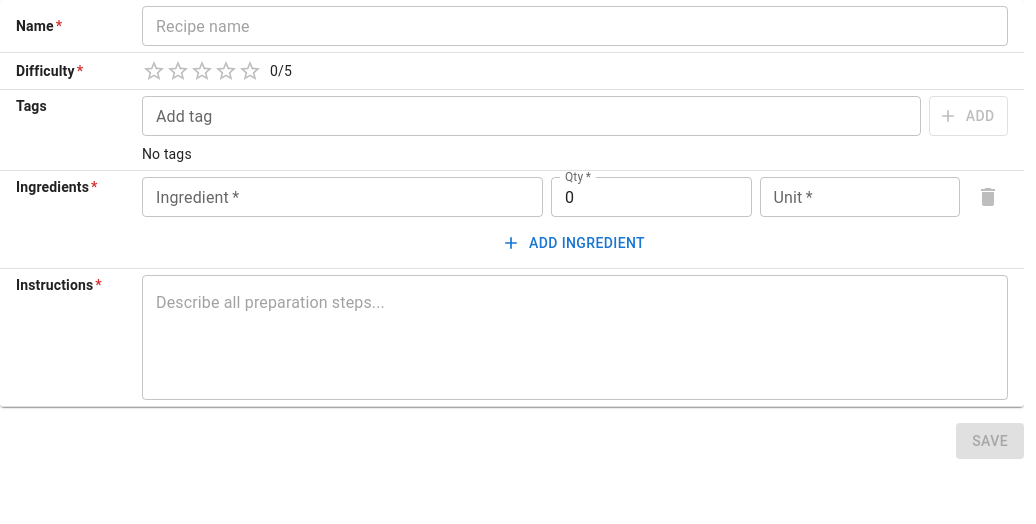
Test: RecipeForm › ingredient management › adds an ingredient row when "Add ingredient" is clicked
This screenshot has width=1036, height=524.
expect the number of buttons named "remove ingredient" is 1: met, box [968,177,1008,217]
Click the button "Add ingredient" at (575, 243), box [142,225,1008,262]
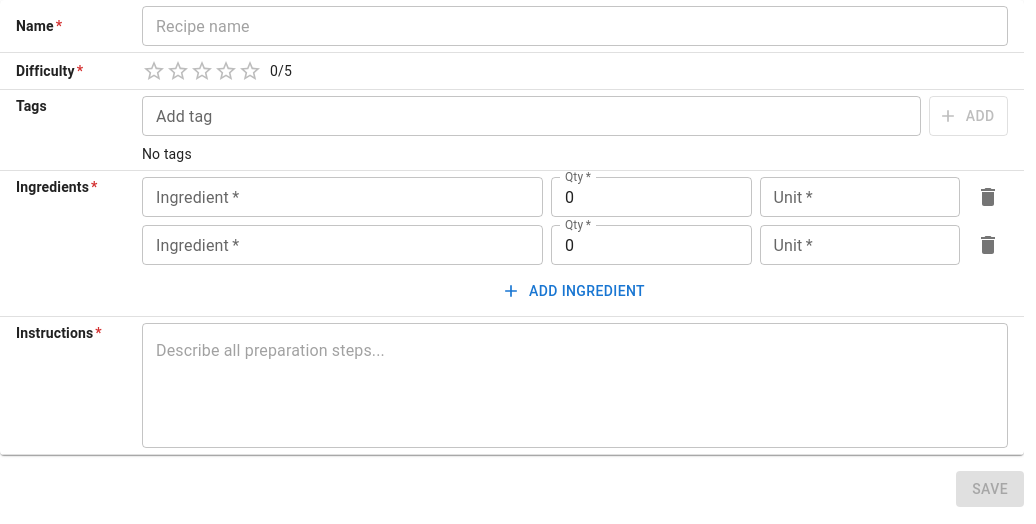
expect the number of buttons named "remove ingredient" is 2: met, box [968,177,1008,217]; [968,225,1008,265]
